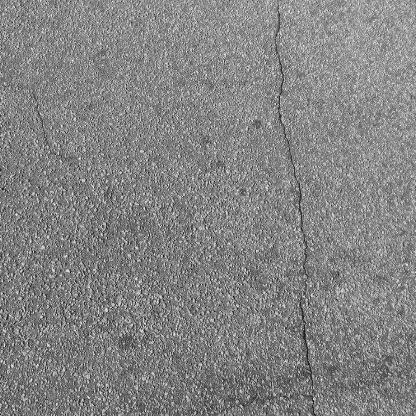Cracks: (212, 171, 326, 416), (0, 79, 77, 165), (272, 0, 299, 170)
